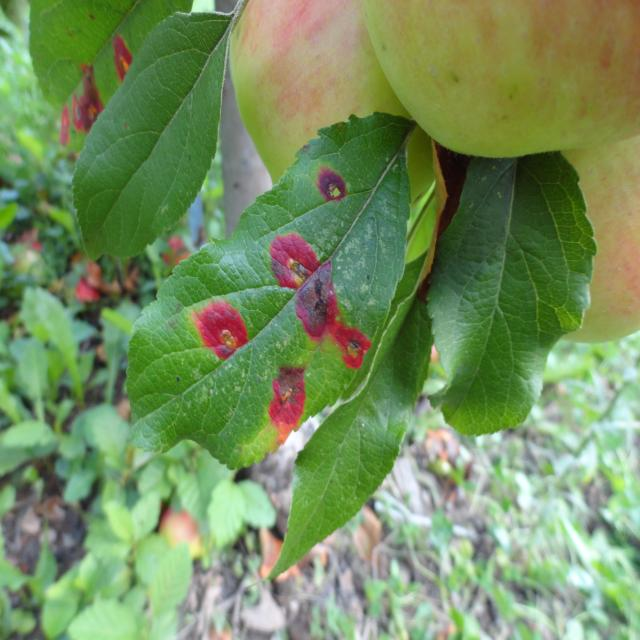Rust: (268, 217, 344, 345), (107, 15, 152, 107), (268, 364, 318, 444), (192, 291, 253, 356), (334, 324, 378, 382), (307, 156, 358, 204)
